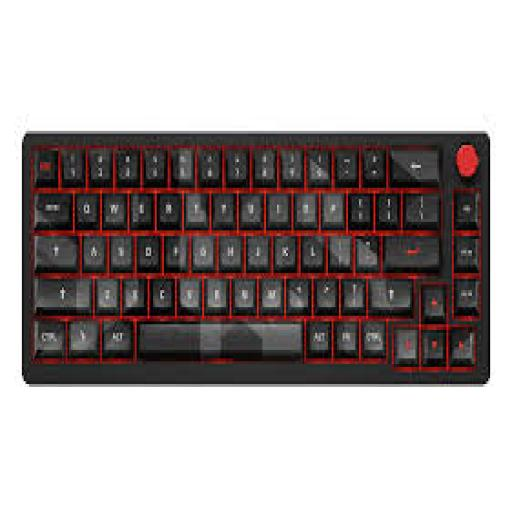KEYBOARD-2: (22, 134, 488, 381)
